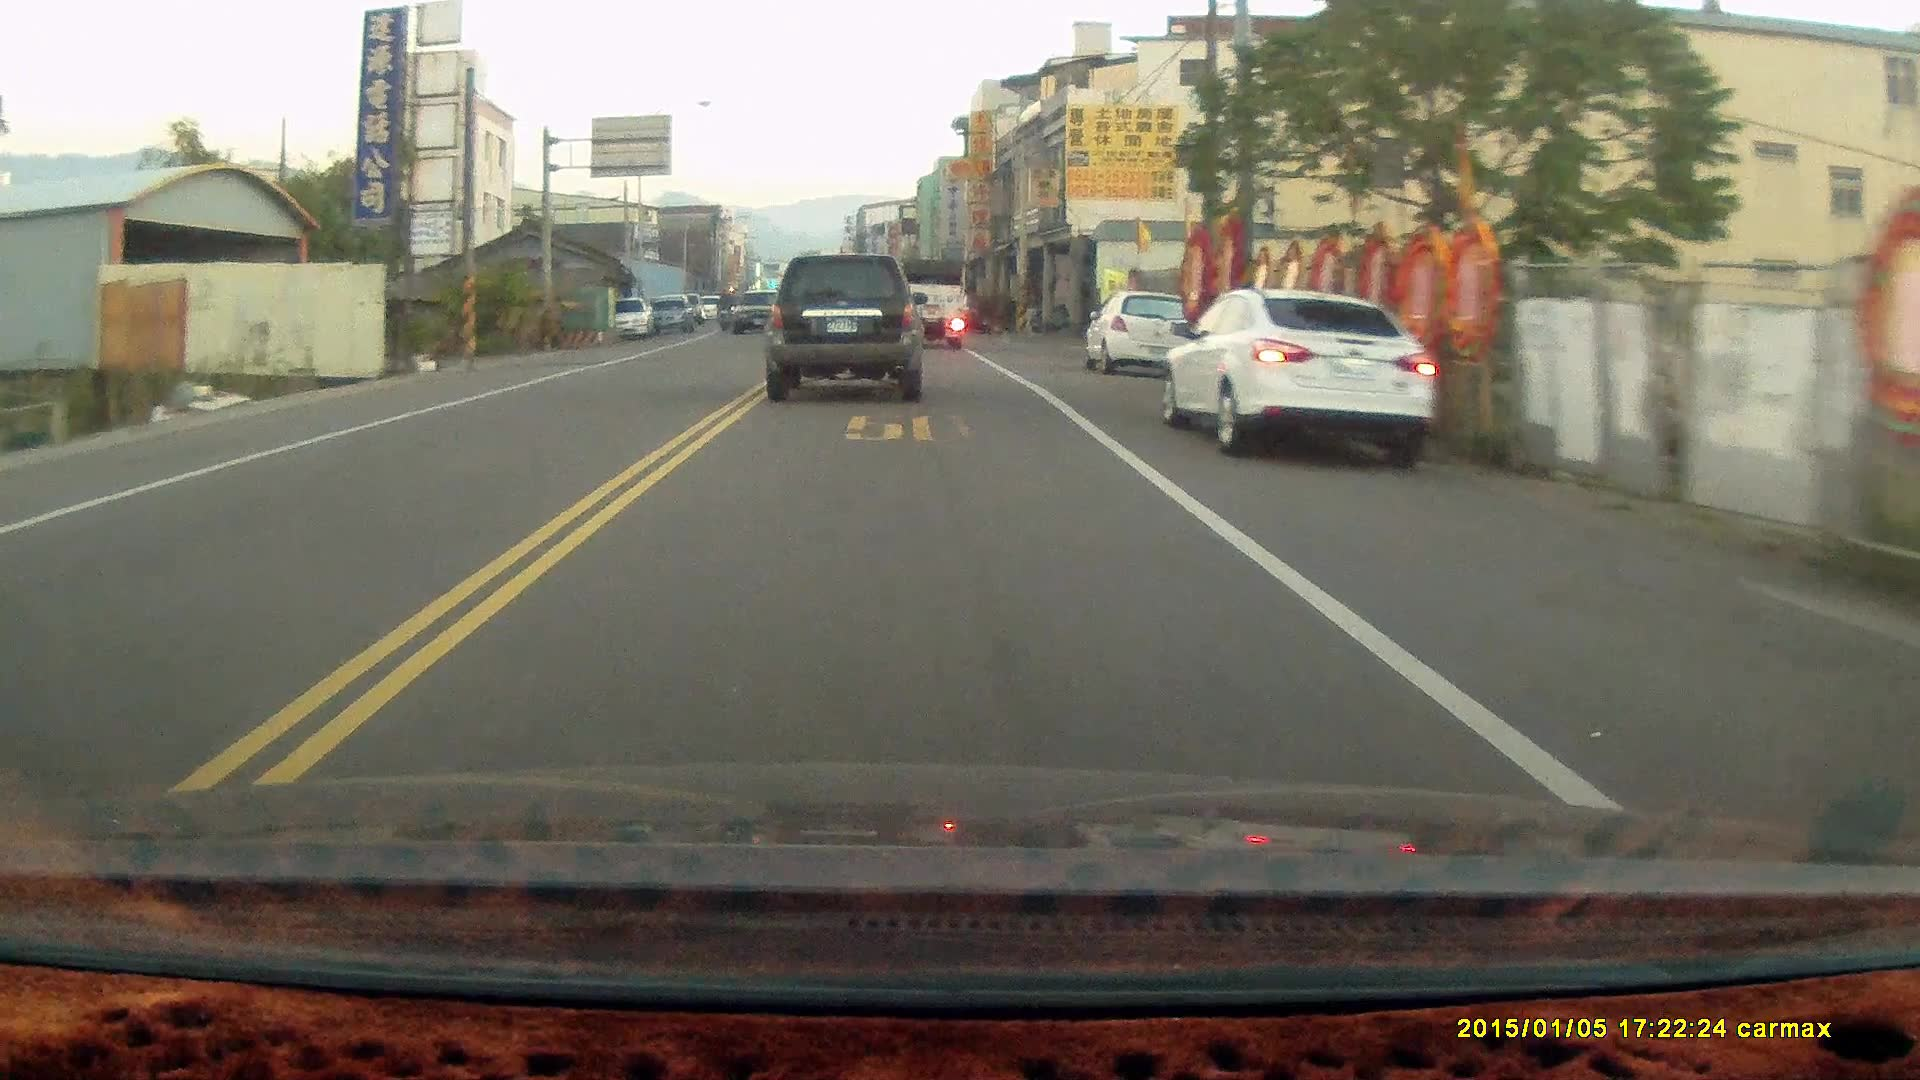vehicle: (1162, 287, 1437, 454), (766, 255, 927, 404), (1087, 290, 1192, 378), (893, 256, 969, 351)
